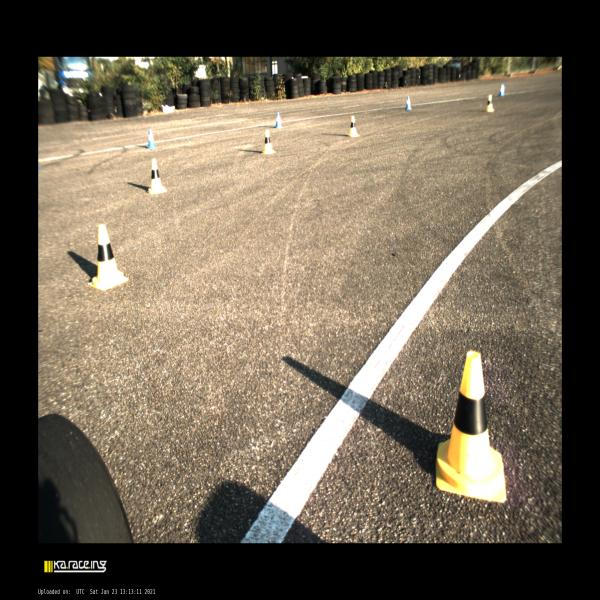blue_cone: (146, 128, 158, 149), (274, 111, 284, 129), (405, 95, 412, 110), (498, 83, 505, 97)
yellow_cone: (435, 350, 507, 504), (86, 223, 128, 291), (147, 158, 167, 195), (261, 128, 275, 155), (348, 115, 360, 138), (485, 94, 495, 113)
